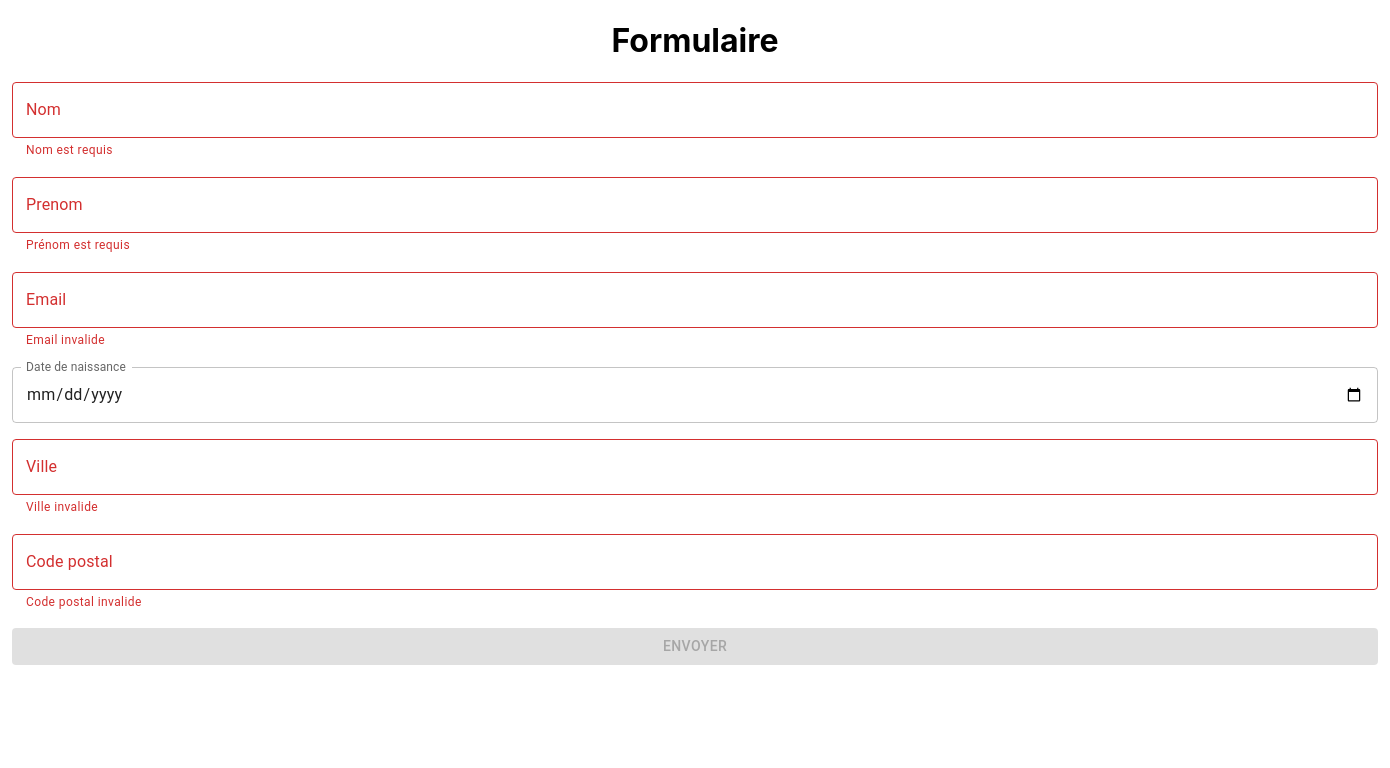
Test: shows success toaster and clears fields on successful submission
Step 1. Type "Doe" into the field labelled "Nom" → (695, 110), box [12,82,1378,138]
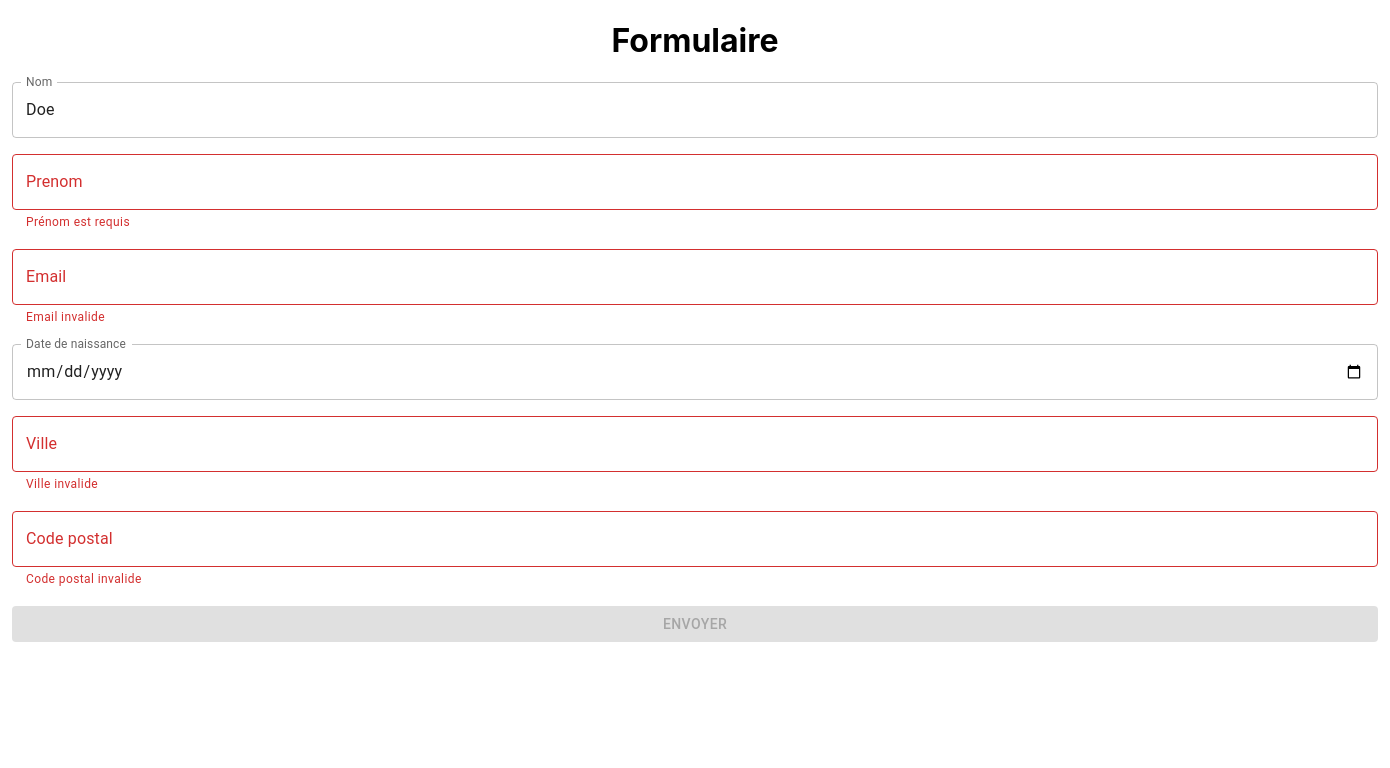
Step 2. Type "John" into the field labelled "Prenom" → (695, 182), box [12,154,1378,210]
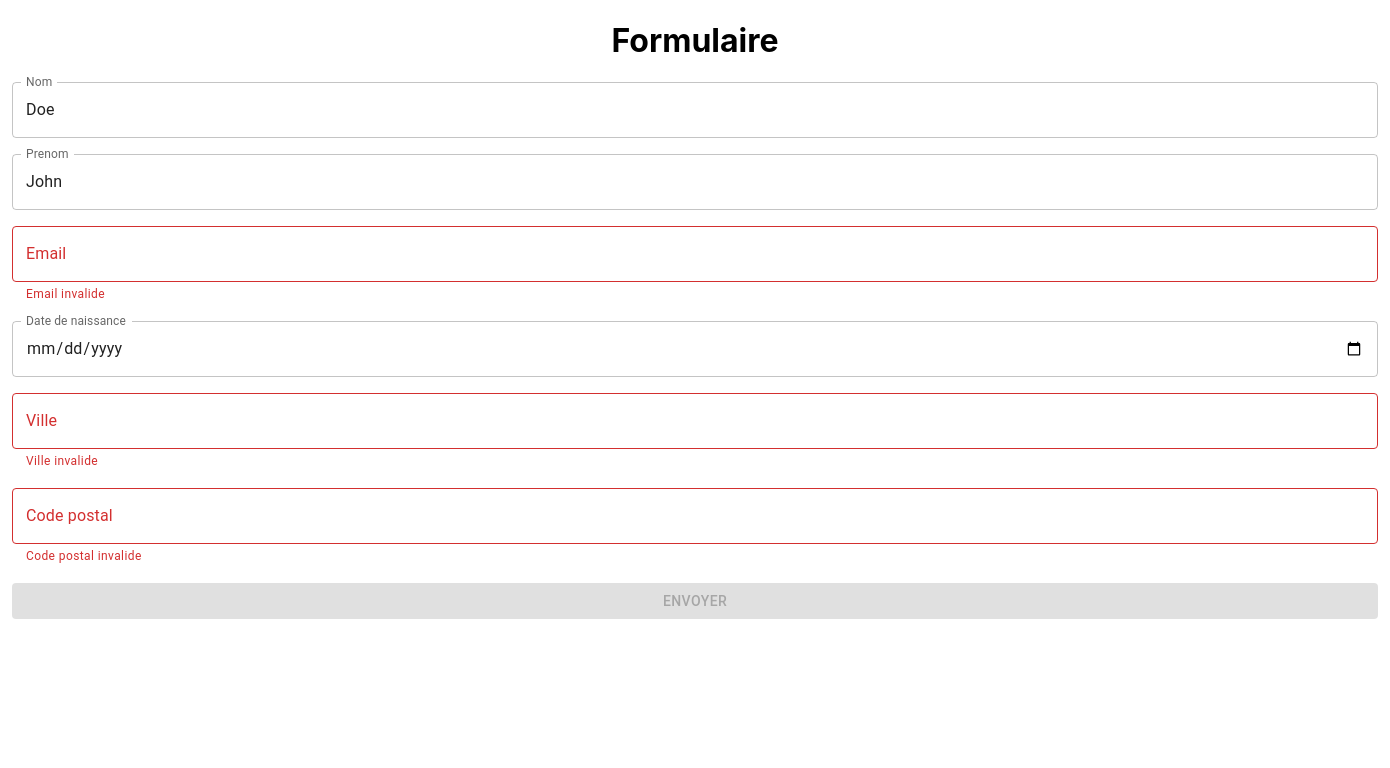
Step 3. Type "john.doe@example.com" into the field labelled "Email" → (695, 254), box [12,226,1378,282]
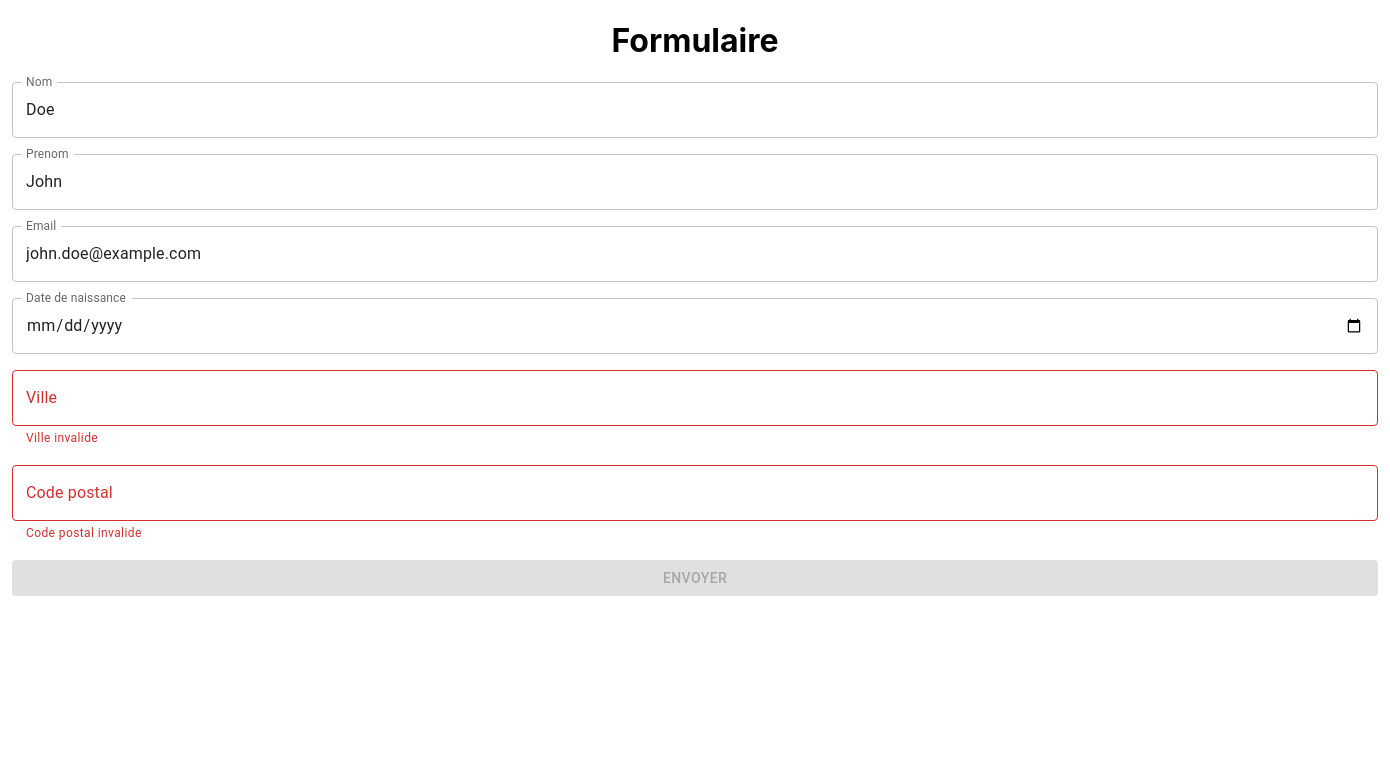
Step 4. Type "2000-01-01" into the date field labelled "Date de naissance" → (695, 326), box [12,298,1378,354]
Step 5. Type "Paris" into the field labelled "Ville" → (695, 398), box [12,370,1378,426]
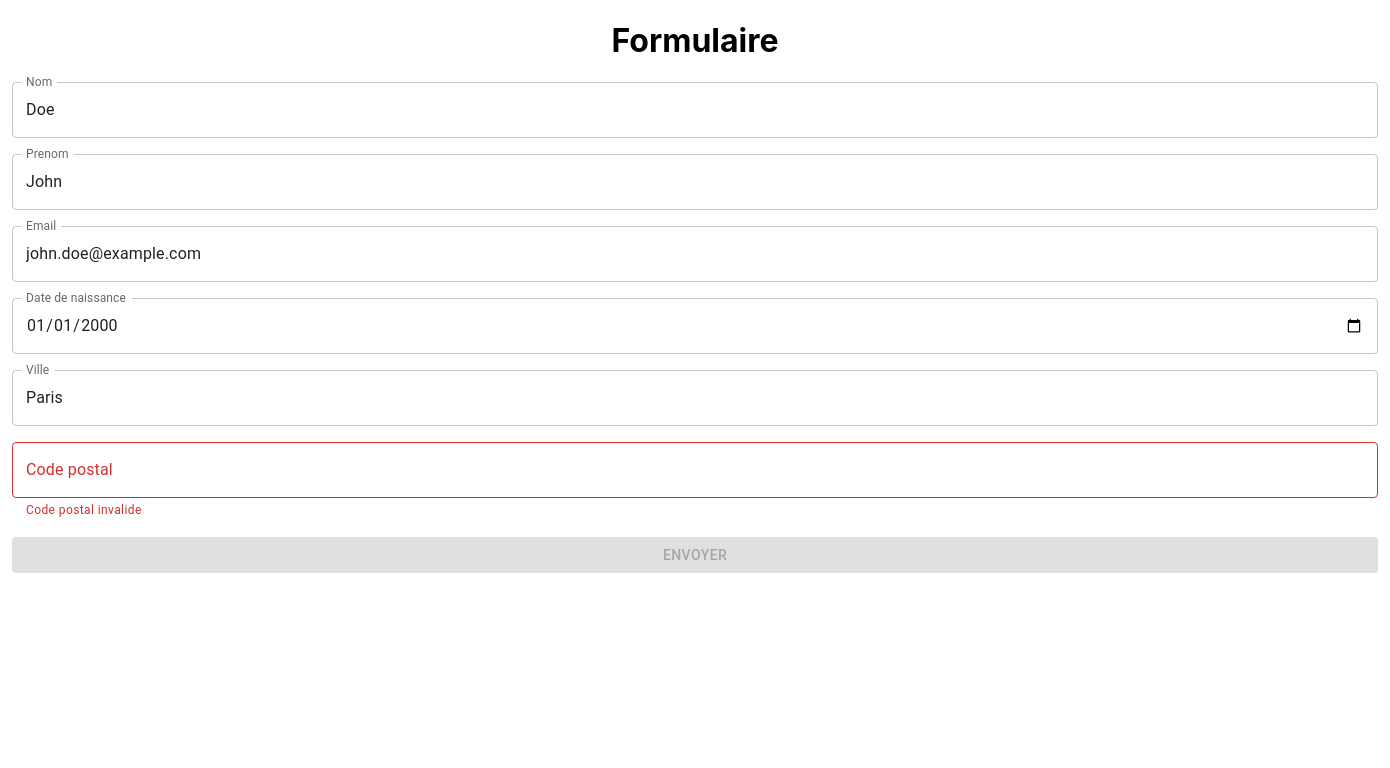
Step 6. Type "75000" into the field labelled "Code postal" → (695, 470), box [12,442,1378,498]
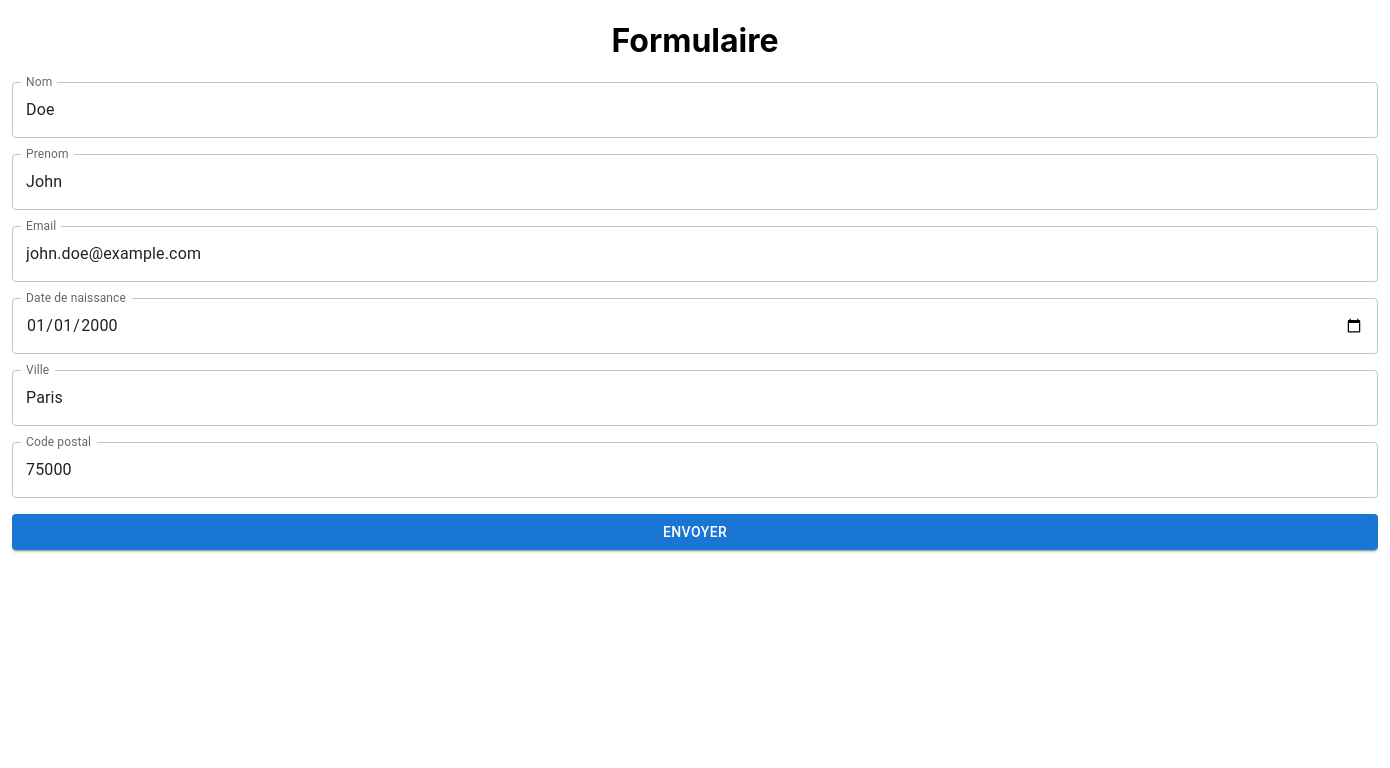
Step 7. Click the button "Envoyer" → (695, 532), box [12,514,1378,550]
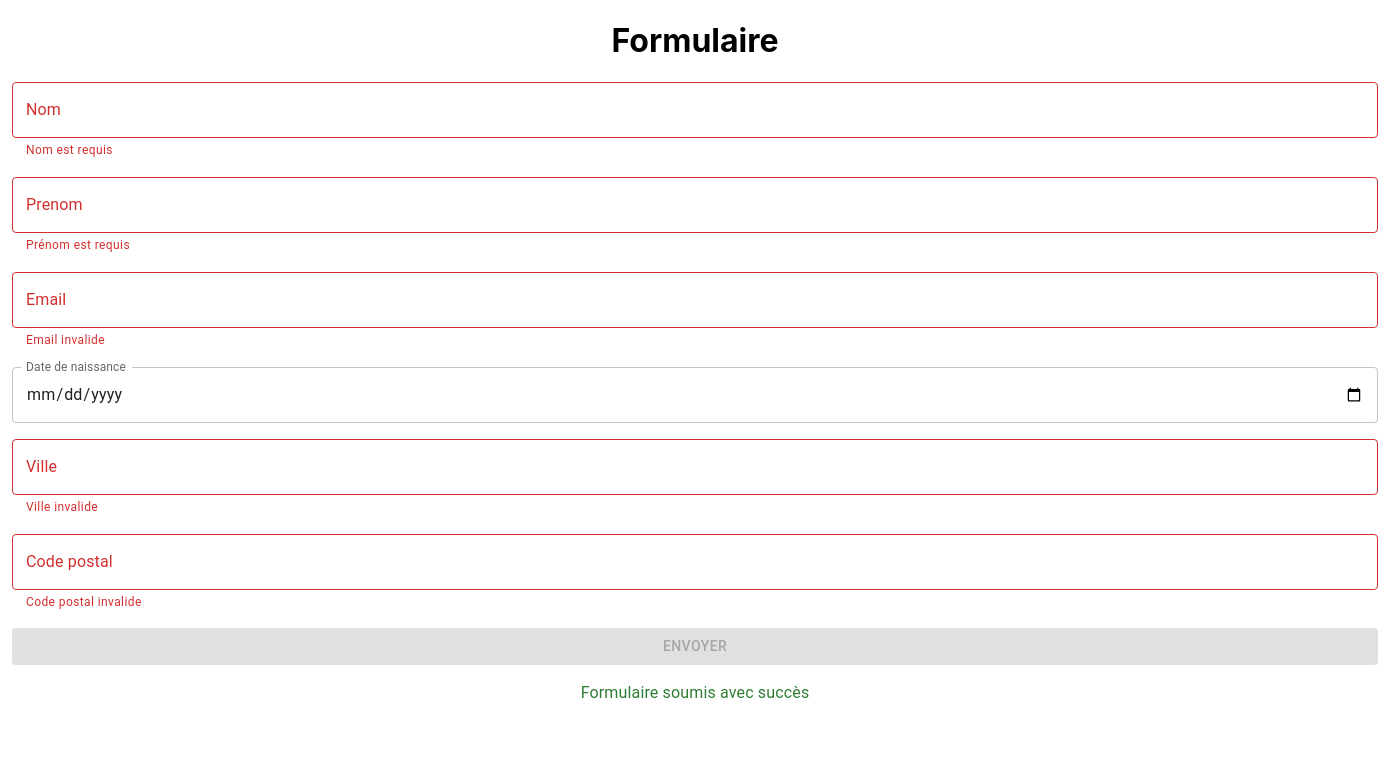
Expected: the text "Formulaire soumis avec succès" is shown, [581,683,809,702]
Expected: the field labelled "Nom" is empty, [12,82,1378,138]
Expected: the field labelled "Prenom" is empty, [12,177,1378,233]
